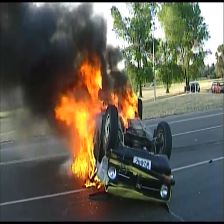fire_h: (54, 53, 105, 178), (121, 88, 140, 119)
fire_l: (84, 175, 101, 189), (108, 90, 118, 109), (119, 114, 129, 128)
